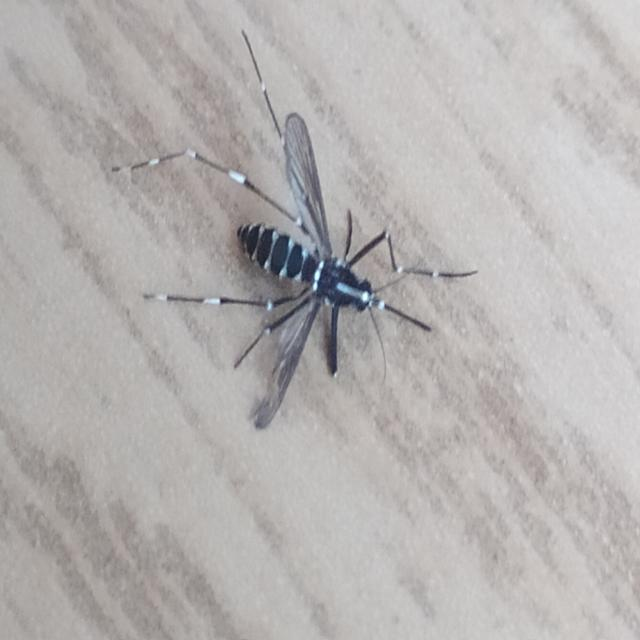albopictus: (108, 15, 484, 439)
